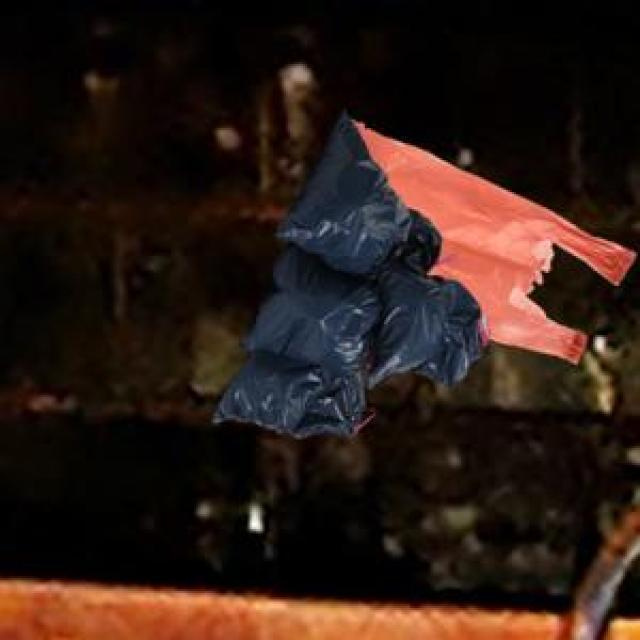miscellaneous trash: (209, 107, 484, 433)
